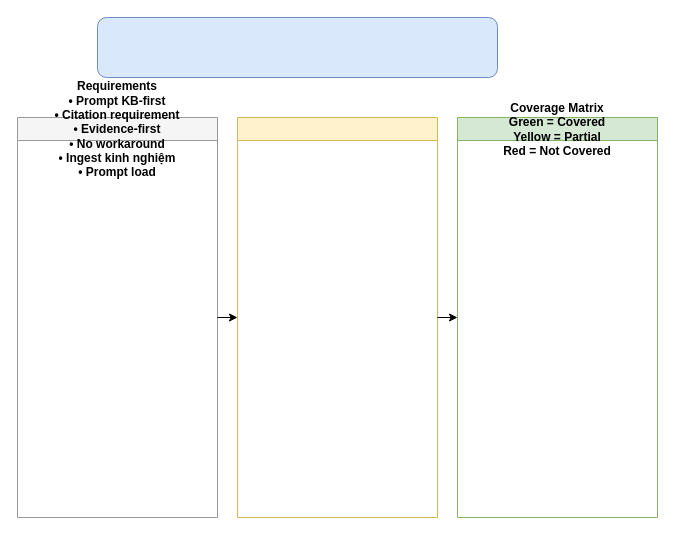
Image size: 675x535. Some labels were removed from this diagram. The centre of each missing label's shape, as x and y in pixels:
"Test Coverage Overview – SA4E-371" goes at point 297,47.
"Test Levels • Unit Testing • Integration Testing • System Testing" goes at point 337,317.
